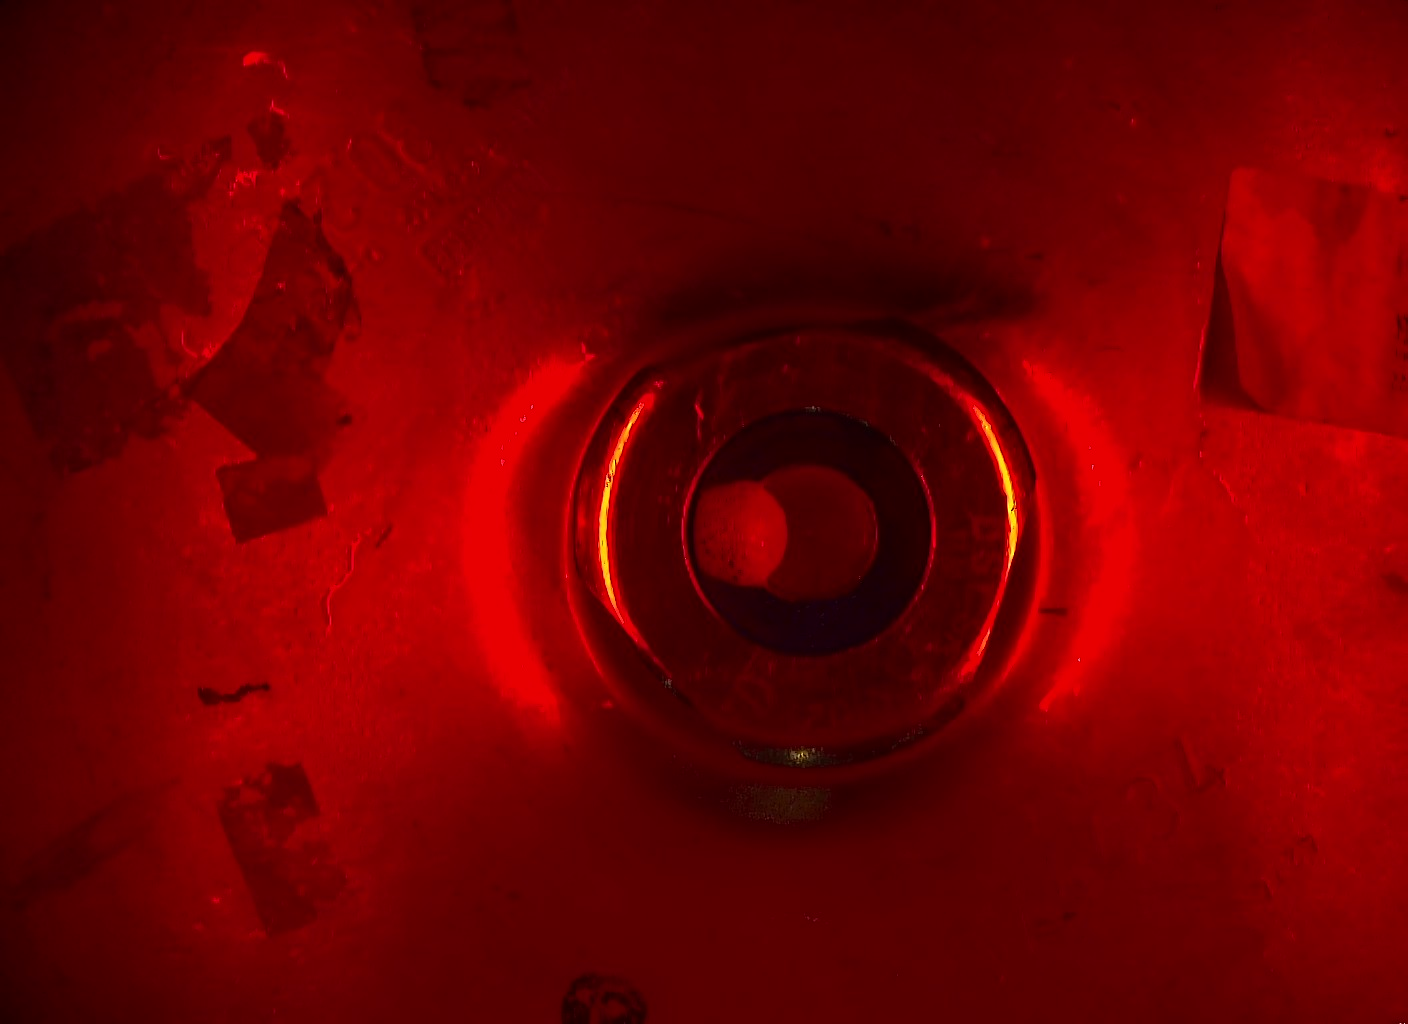pena: (679, 475, 791, 602)
